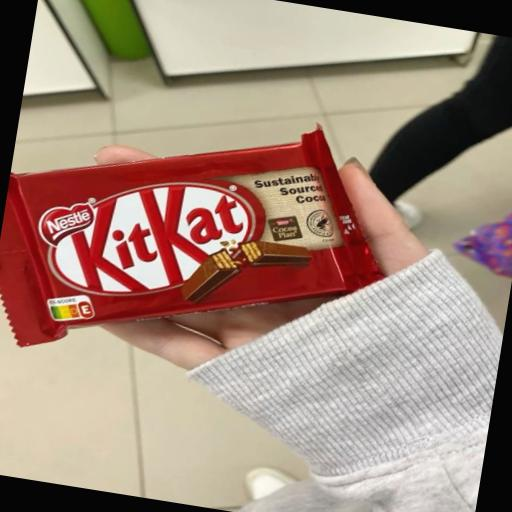kitkat: (0, 84, 454, 407)
